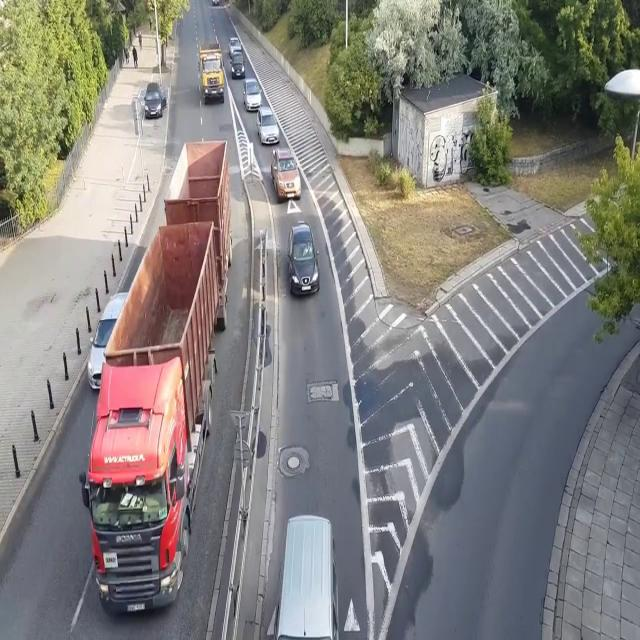car: (87, 292, 128, 391), (287, 221, 320, 296), (270, 147, 302, 201), (256, 107, 280, 145), (143, 82, 167, 120), (243, 79, 262, 112), (230, 52, 246, 80), (228, 36, 242, 58), (212, 0, 220, 6)
truck: (77, 139, 233, 618), (198, 40, 225, 105)
van: (274, 515, 338, 640)
